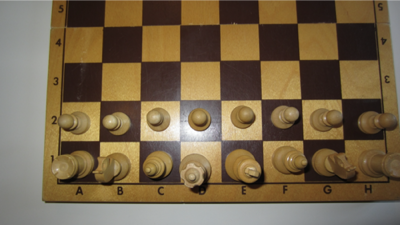white-bishop: (271, 146, 309, 175), (143, 151, 174, 180)
white-king: (225, 149, 262, 184)
white-knight: (312, 149, 357, 180), (93, 153, 132, 183)
white-pawn: (358, 111, 398, 135), (310, 108, 344, 133), (57, 111, 91, 135), (103, 112, 132, 137), (271, 106, 300, 130), (146, 107, 172, 132), (230, 105, 256, 130), (188, 108, 212, 132)
white-queen: (179, 154, 212, 189)
white-rook: (52, 150, 95, 181), (358, 149, 400, 179)
